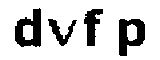d: (2, 6, 45, 53)
f: (79, 7, 105, 50)
p: (115, 15, 148, 60)
v: (46, 16, 79, 49)
